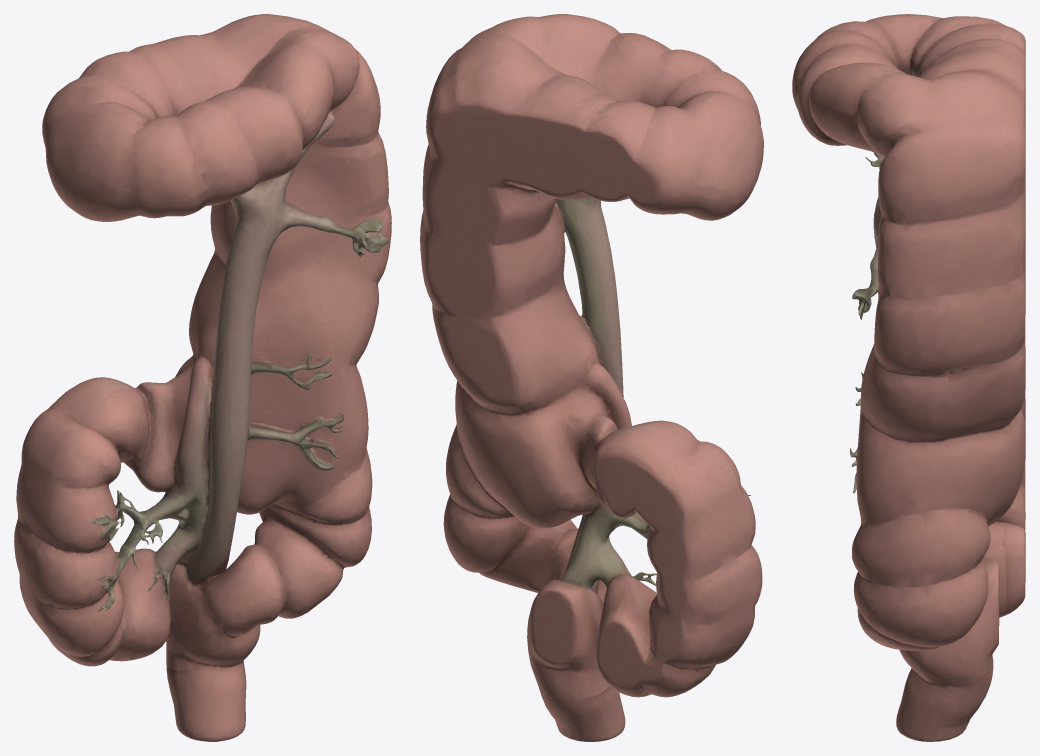
Rendered from Part_VillusCrossSection.glb.
3 views of the same model, side by side, from view 1: azimuth 30°, elevation 25°; view 2: azimuth 150°, elevation 25°; view 3: azimuth 270°, elevation 25° (orthographic). The views are drawn at different scales.
Bounding box in the file's own units: 0.9743 × 1.9 × 0.5802.
Materials: 1 (1 with a texture image).
